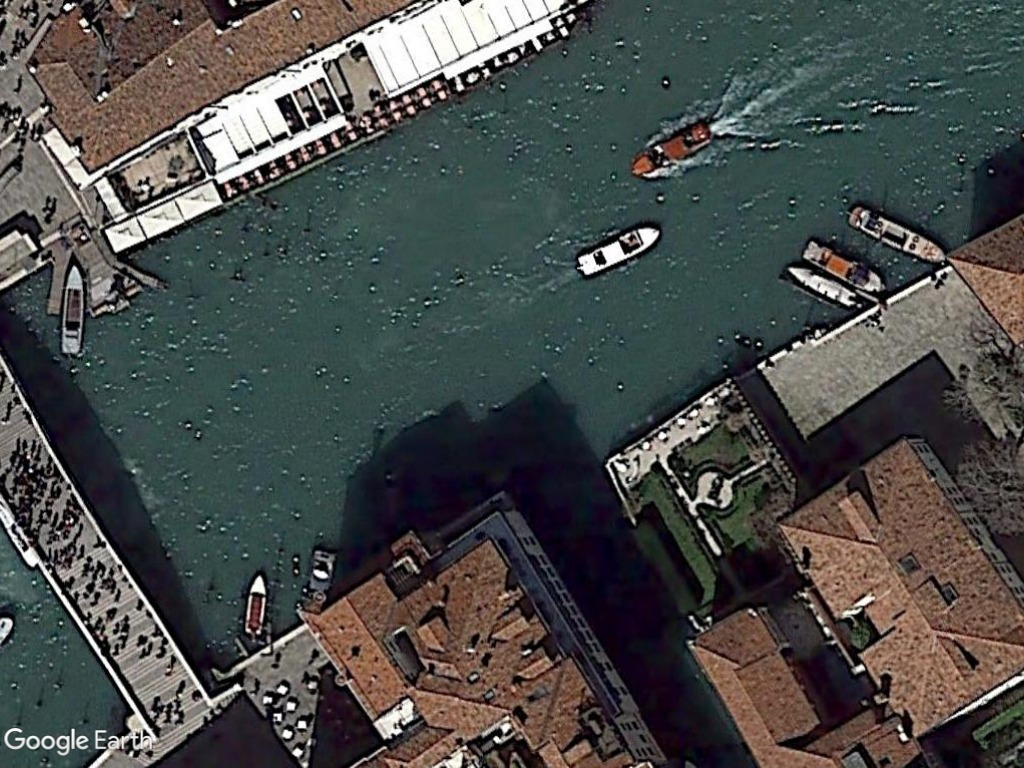boat: (847, 203, 952, 269), (627, 117, 714, 183), (568, 224, 664, 282), (798, 236, 889, 296), (781, 261, 869, 316), (47, 258, 92, 364), (239, 567, 272, 641)
